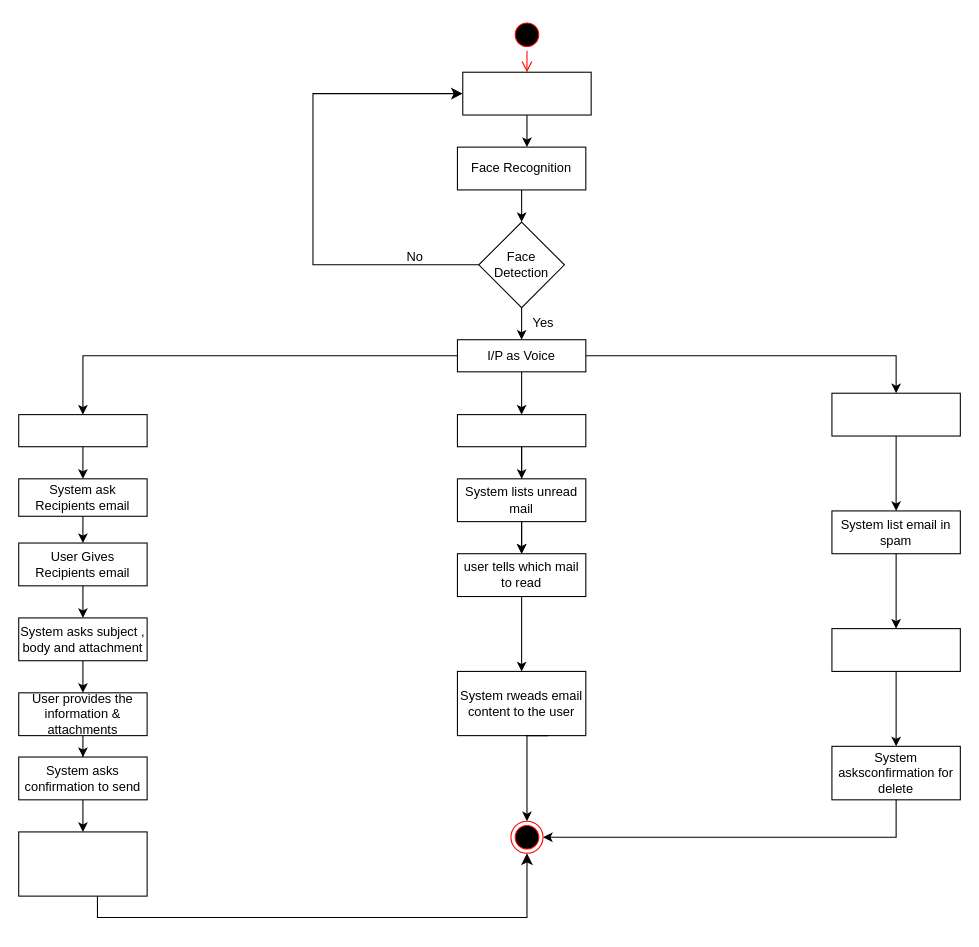
Image size: 979x947. Some labels were removed from this diagram. Here are the shapes that lost their labels. From the top down, the centre of each, then its label:
the point at 526,93: Login
the point at 82,430: Compose
the point at 521,430: Read
the point at 895,414: Delete
the point at 895,649: User selects mail
the point at 82,863: User gives confirmation
